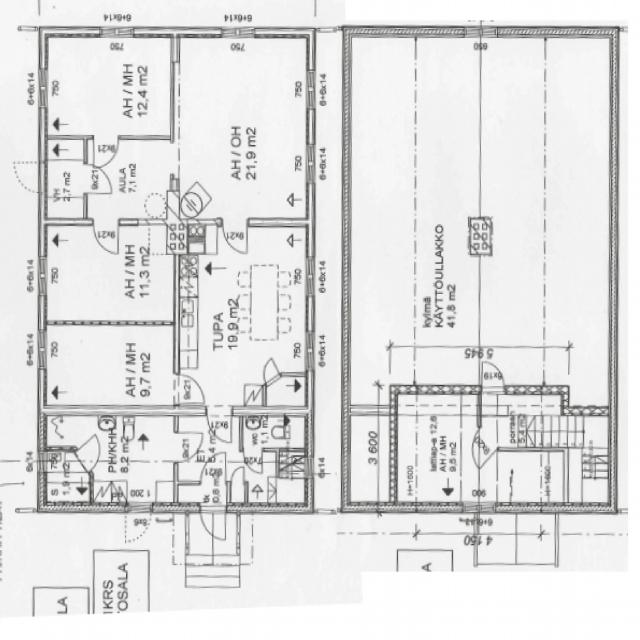door: (462, 426, 498, 467), (75, 435, 108, 473), (200, 502, 226, 544), (92, 219, 118, 256), (207, 405, 231, 443), (174, 432, 204, 462), (174, 373, 204, 402), (83, 164, 112, 193), (200, 452, 226, 484), (482, 358, 505, 394), (223, 220, 247, 253), (95, 136, 118, 168), (258, 357, 282, 386), (244, 448, 262, 473), (232, 467, 244, 484)
